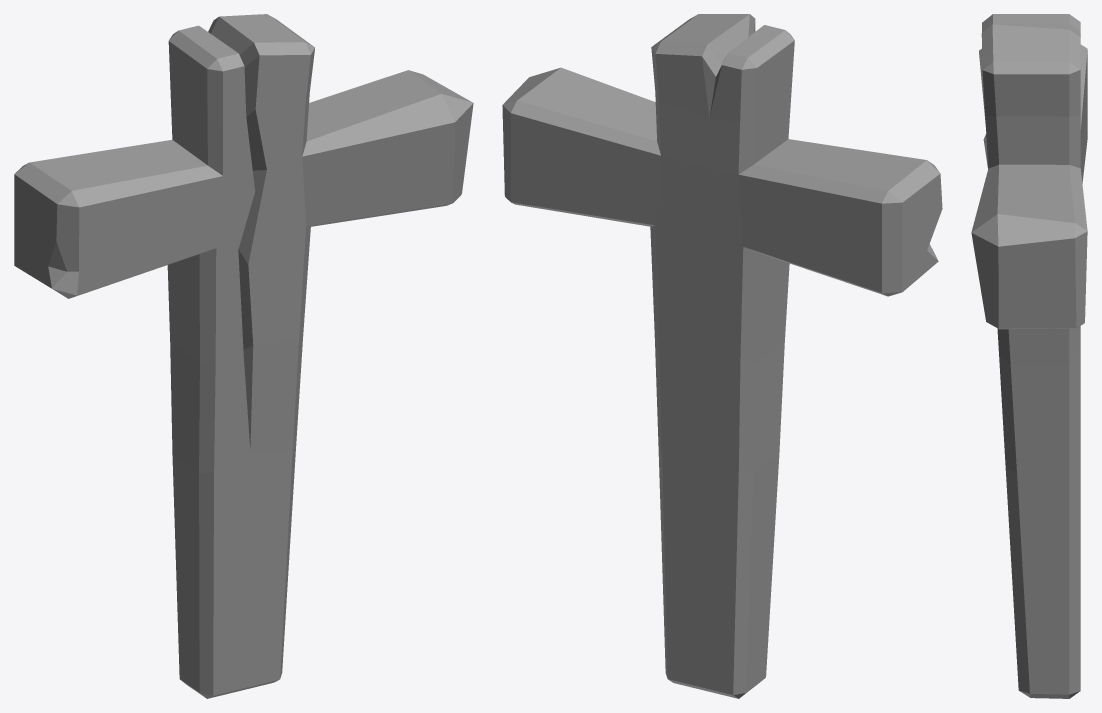
Rendered from WF_LP_HT_Props_Gravestone.002.fbx.
The picture shows the model from 3 angles, left to right: view 1: azimuth 30°, elevation 25°; view 2: azimuth 150°, elevation 25°; view 3: azimuth 270°, elevation 25°; orthographic projection. The views are drawn at different scales.
Visible parts, largest first — view 1: WF_LP_HT_Props_Gravestone.002; view 2: WF_LP_HT_Props_Gravestone.002; view 3: WF_LP_HT_Props_Gravestone.002.
Part boxes in pixels (x1,y1,x2,y2): WF_LP_HT_Props_Gravestone.002: (14, 14, 473, 698); WF_LP_HT_Props_Gravestone.002: (502, 14, 942, 698); WF_LP_HT_Props_Gravestone.002: (971, 14, 1087, 698).
Size of the model in its own units: 0.9934 by 1.5 by 0.2411.
